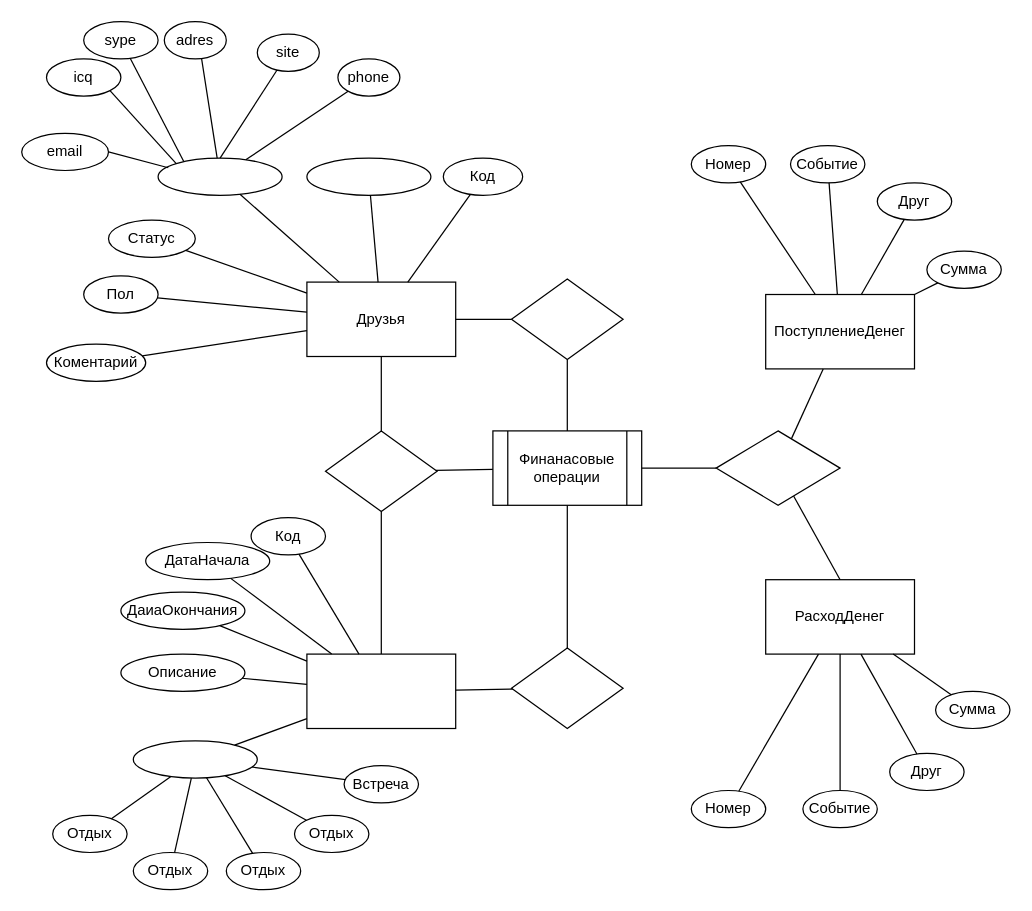
This 1032x911 diagram has some shape labels left out. The shapes that lost their labels are listed below. From the top down, each one's centre as x and y in pixels, then its label:
At point 219,176: "ВидКонтакта".
At point 368,176: "Наименование".
At point 566,319: "отмечаются".
At point 380,471: "отмечает".
At point 777,467: "Включены в".
At point 381,690: "События".
At point 566,687: "заносятся в".
At point 194,759: "СтатусыСобытий".
